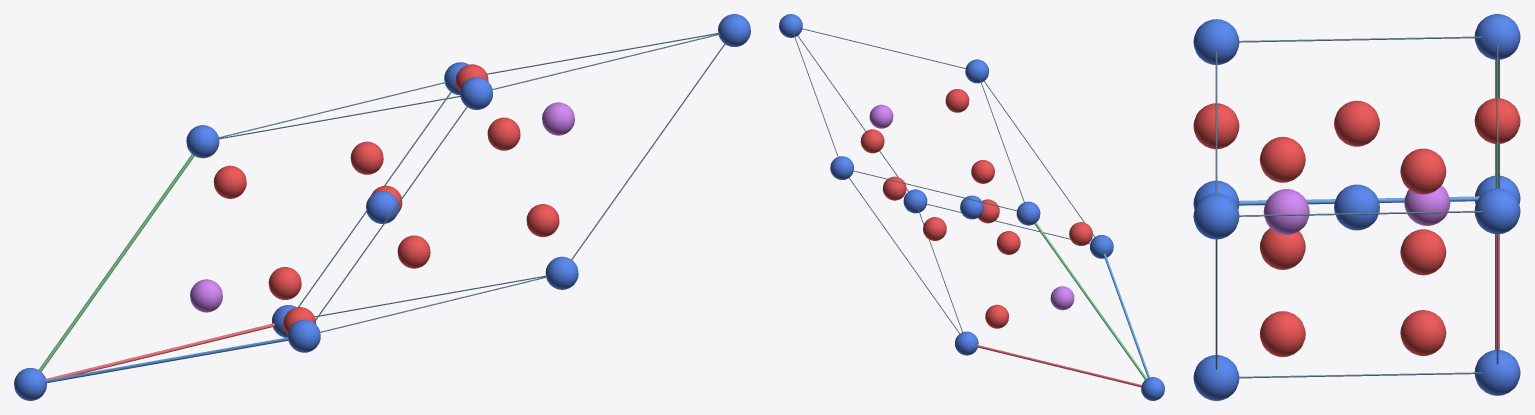
Rendered from chat-lithium-nitrate.glb.
3 renders of one model, left to right at view 1: azimuth 30°, elevation 25°; view 2: azimuth 150°, elevation 25°; view 3: azimuth 270°, elevation 25°, orthographic. The views are drawn at different scales.
Visible parts, largest first — view 1: Ô mạng và các trục a, b, c, N · N · 1 (×7), O · O · 1 (×6), Li · Li · 1 (×2); view 2: N · N · 1 (×9), O · O · 1 (×9), Ô mạng và các trục a, b, c, Li · Li · 1 (×2); view 3: O · O · 1 (×9), N · N · 1 (×9), Ô mạng và các trục a, b, c, Li · Li · 1 (×2).
Part boxes in pixels (left/top/right/bottom): Ô mạng và các trục a, b, c: left=39, top=33, right=725, bottom=383; N · N · 1 (×7): left=14, top=14, right=750, bottom=400; O · O · 1 (×6): left=213, top=117, right=559, bottom=299; Li · Li · 1 (×2): left=190, top=102, right=574, bottom=312; N · N · 1 (×9): left=779, top=14, right=1164, bottom=400; O · O · 1 (×9): left=860, top=89, right=1092, bottom=328; Ô mạng và các trục a, b, c: left=793, top=28, right=1149, bottom=387; Li · Li · 1 (×2): left=869, top=104, right=1074, bottom=310; O · O · 1 (×9): left=1193, top=98, right=1520, bottom=356; N · N · 1 (×9): left=1193, top=14, right=1520, bottom=400; Ô mạng và các trục a, b, c: left=1215, top=36, right=1499, bottom=378; Li · Li · 1 (×2): left=1263, top=185, right=1450, bottom=234.
Bounding box in the file's own units: 14.05 × 6.62 × 4.55.
